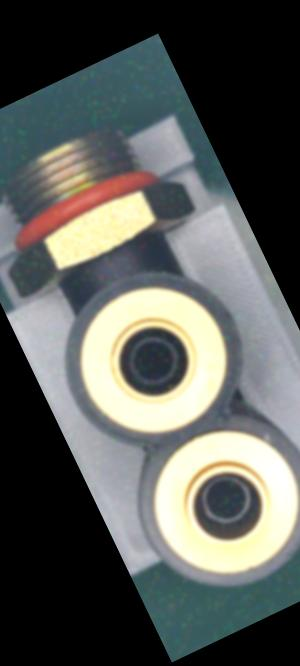white mark: (99, 250, 115, 267)
